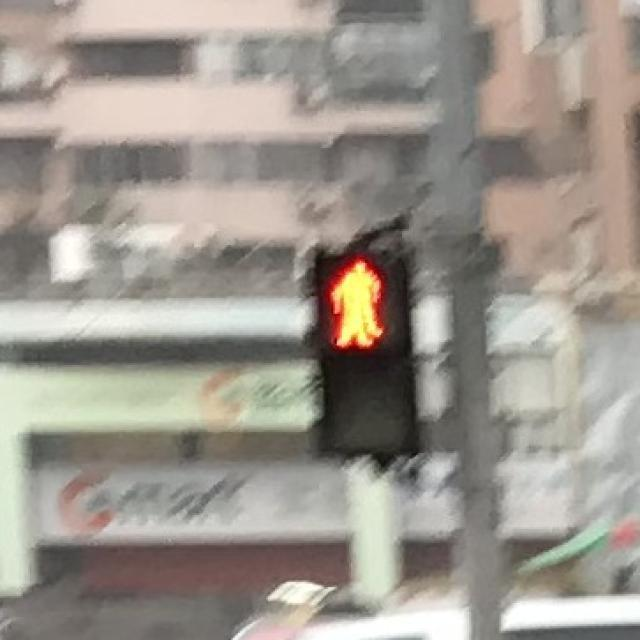red-crossing: (312, 247, 397, 351)
